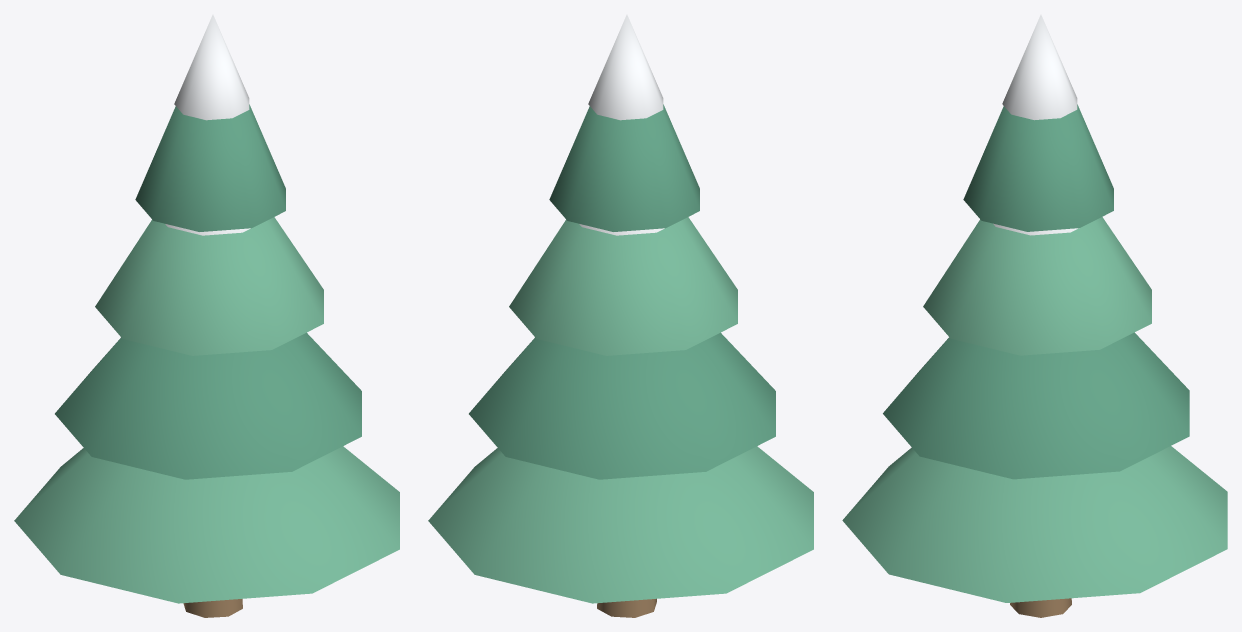
The model's file is Winter_PineSnow1.fbx.
3 views of the same model, side by side, from view 1: azimuth 30°, elevation 25°; view 2: azimuth 150°, elevation 25°; view 3: azimuth 270°, elevation 25° (orthographic).
Visible parts, largest first — view 1: Winter_PineSnow1; view 2: Winter_PineSnow1; view 3: Winter_PineSnow1.
Part boxes in pixels (box(x1,y1,x2,y2)): Winter_PineSnow1: box(14, 14, 399, 617); Winter_PineSnow1: box(428, 14, 813, 617); Winter_PineSnow1: box(842, 14, 1227, 617).
Bounding box in the file's own units: 3.47 × 5.78 × 3.41.
